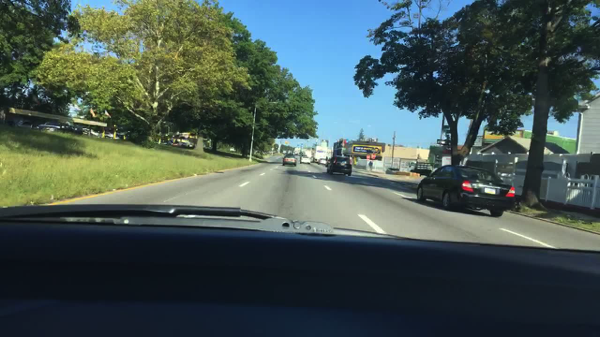car: (415, 162, 518, 218), (40, 120, 82, 134), (326, 154, 352, 176), (15, 119, 40, 131), (281, 152, 295, 166), (82, 125, 97, 135), (101, 129, 113, 138), (300, 155, 311, 164), (316, 158, 327, 165)
